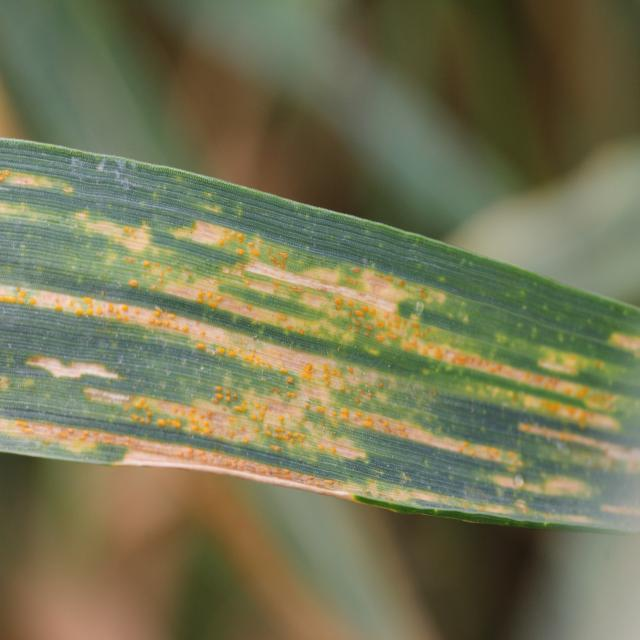leaf rust: (0, 172, 639, 534)
